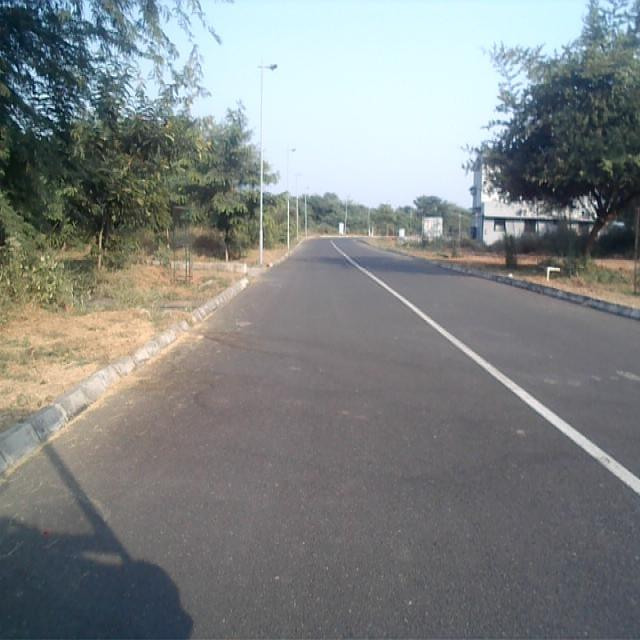lane: (0, 243, 640, 640)
